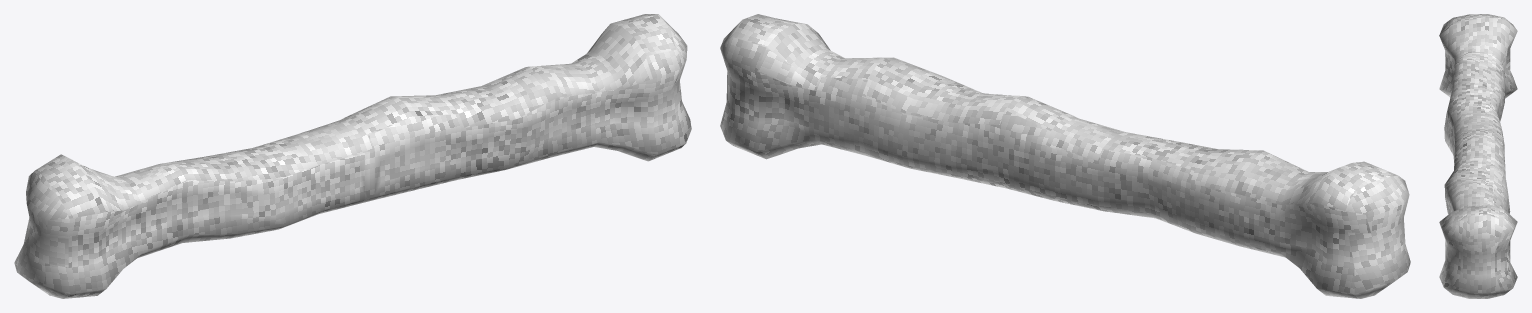
Rendered from Bone.glb.
3 renders of one model, left to right at view 1: azimuth 30°, elevation 25°; view 2: azimuth 150°, elevation 25°; view 3: azimuth 270°, elevation 25°, orthographic. The views are drawn at different scales.
Parts seen in each view (by area): view 1: Cube; view 2: Cube; view 3: Cube.
Boxes of the visible parts, left/top/right/bottom form: Cube: left=14, top=14, right=691, bottom=298; Cube: left=720, top=14, right=1410, bottom=298; Cube: left=1439, top=14, right=1517, bottom=298.
Bounding box in the file's own units: 0.8076 × 0.1456 × 0.1184.
1 material, 1 textured.
